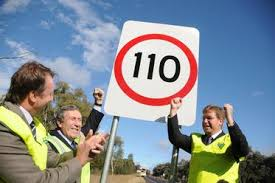Speed_limit_110km: (114, 34, 200, 107)
